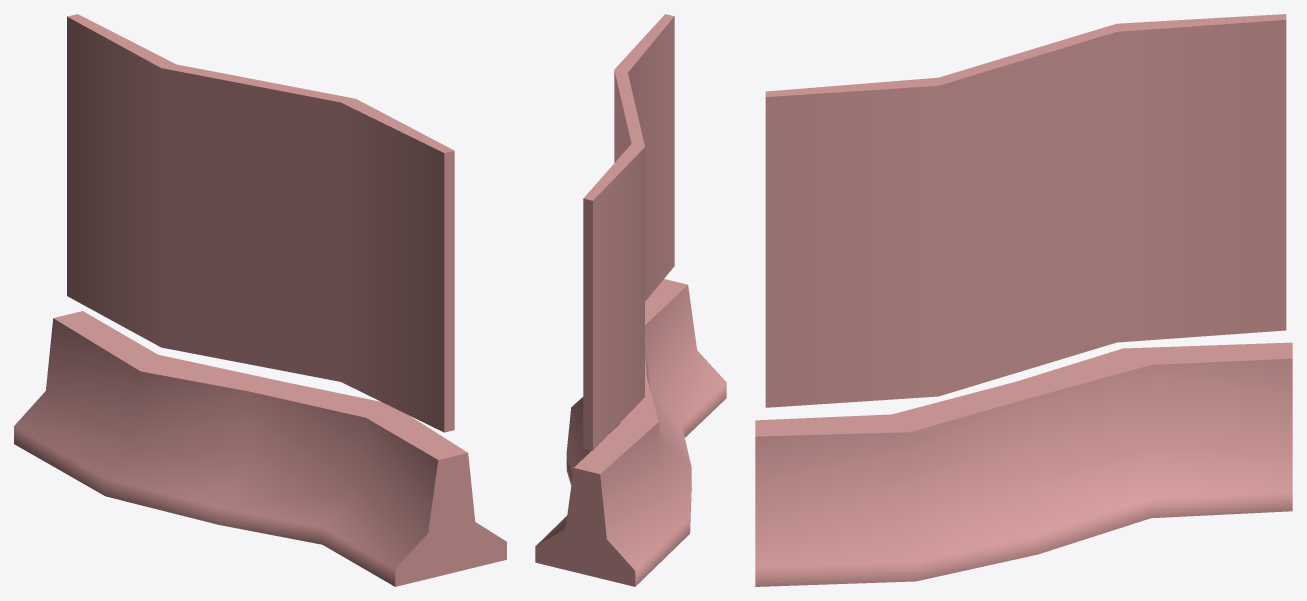
File: Fence_A_G_COL.fbx
3 views of the same model, side by side, from view 1: azimuth 30°, elevation 25°; view 2: azimuth 150°, elevation 25°; view 3: azimuth 270°, elevation 25° (orthographic). The views are drawn at different scales.
Parts seen in each view (by area): view 1: Fence_A_G_COL; view 2: Fence_A_G_COL; view 3: Fence_A_G_COL.
Part boxes in pixels (x1,y1,x2,y2): Fence_A_G_COL: [14, 14, 506, 586]; Fence_A_G_COL: [535, 14, 726, 586]; Fence_A_G_COL: [755, 14, 1292, 586].
Size of the model in its own units: 180 by 286 by 300.
